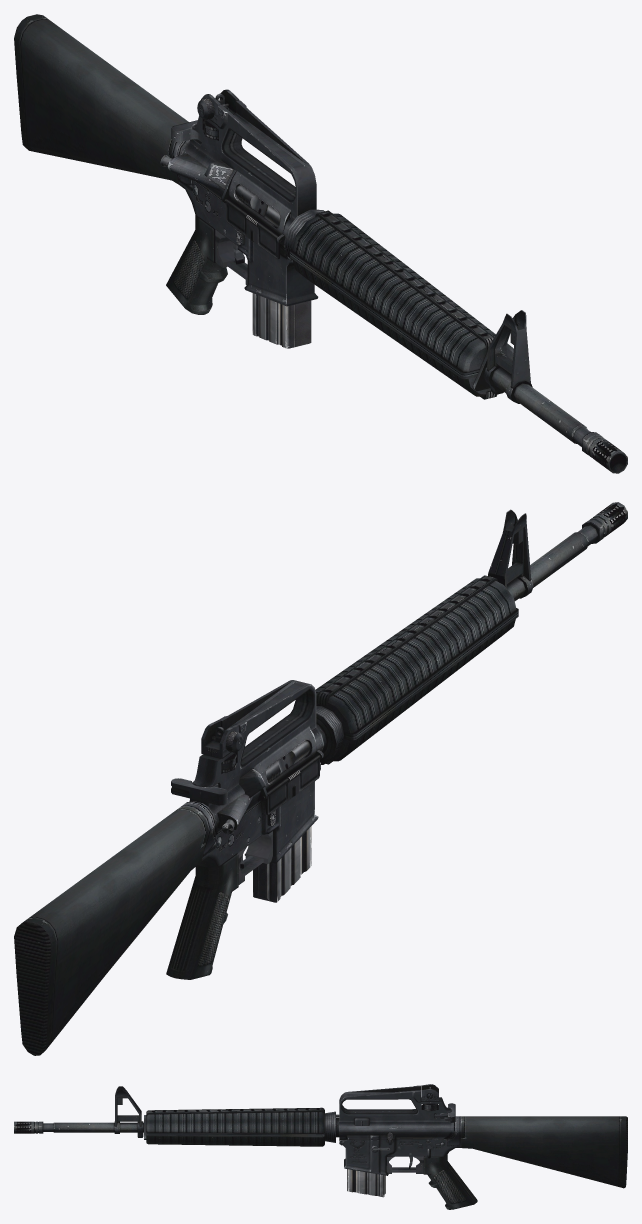
3 renders of one model, top to bottom at view 1: azimuth 30°, elevation 25°; view 2: azimuth 150°, elevation 25°; view 3: azimuth 270°, elevation 25°, orthographic. The views are drawn at different scales.
Visible parts, largest first — view 1: Model; view 2: Model; view 3: Model.
Part boxes in pixels (x1,y1,x2,y2): Model: [14, 14, 627, 473]; Model: [14, 502, 627, 1055]; Model: [14, 1084, 627, 1209].
Size of the model in its own units: 0.0411 by 0.1309 by 0.6.
Materials: 7 (7 with a texture image).
